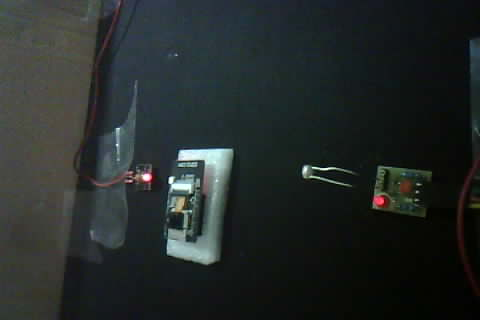esp32: (161, 150, 227, 259)
